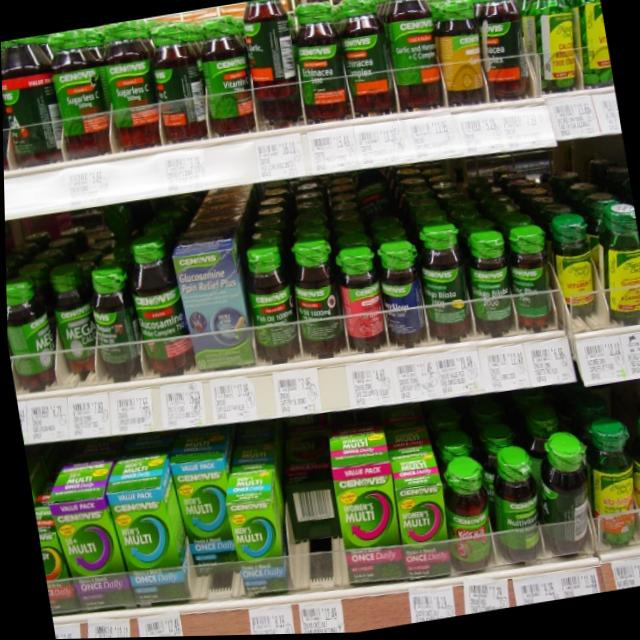q184: (329, 454, 408, 592), (387, 457, 459, 583)
